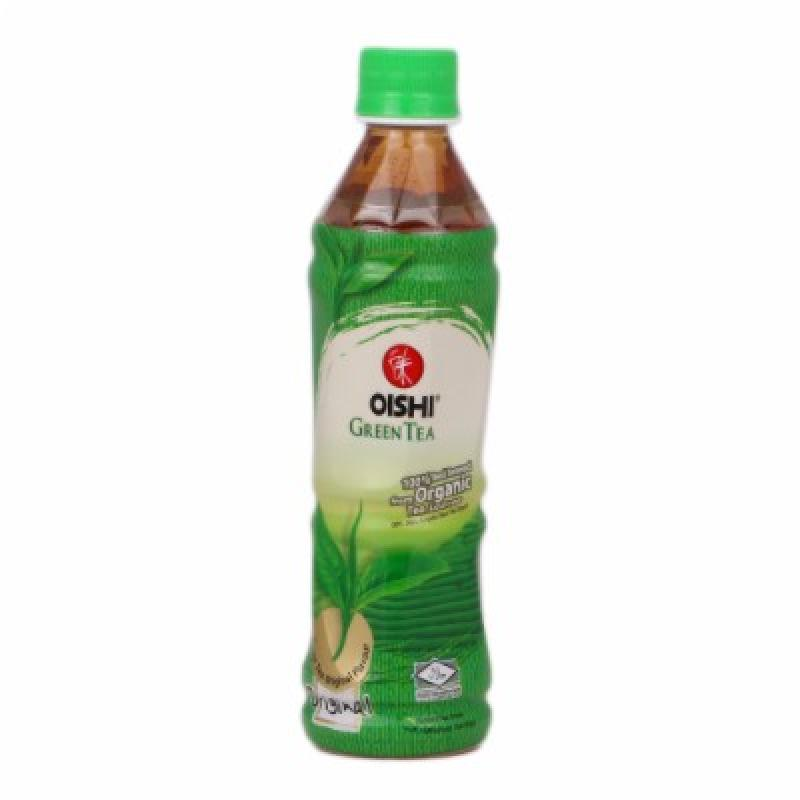botella: (294, 41, 512, 759)
